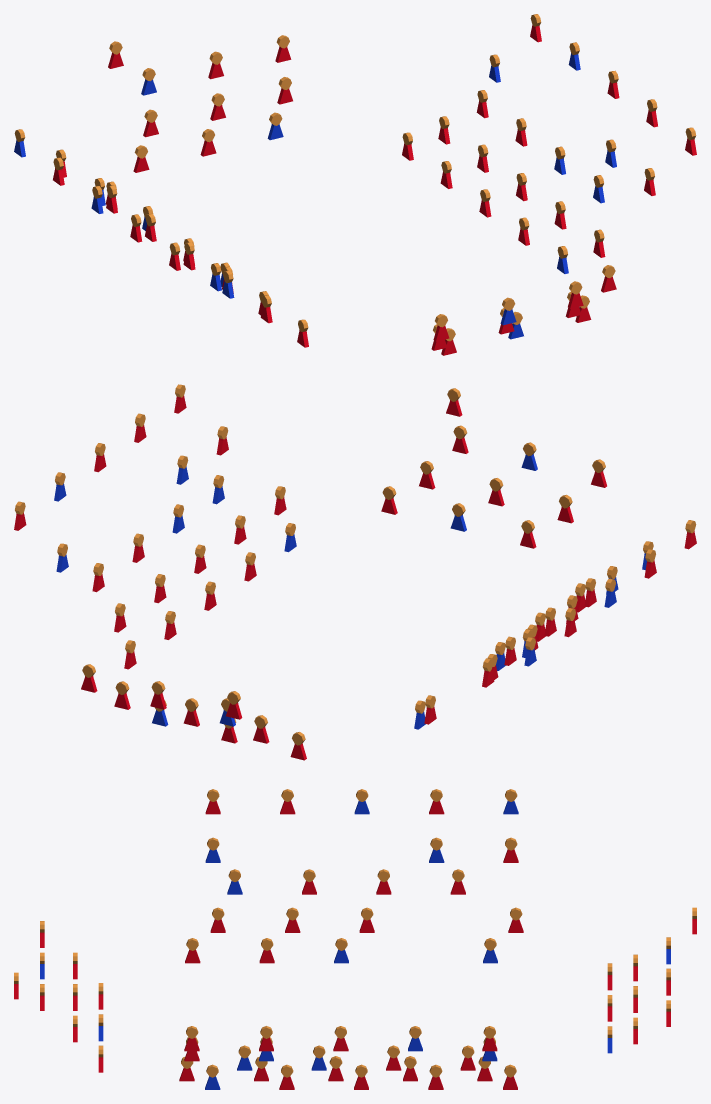
The model's file is fans.fbx.
The picture shows the model from 3 angles, top to bottom: view 1: azimuth 30°, elevation 25°; view 2: azimuth 150°, elevation 25°; view 3: azimuth 270°, elevation 25°; orthographic projection. The views are drawn at different scales.
Visible parts, largest first — view 1: Fan.001, Fan.002, Fan.004, Fan.003; view 2: Fan.001, Fan.002, Fan.003, Fan.004; view 3: Fan.001, Fan.002, Fan.004, Fan.003.
Part boxes in pixels (x1,y1,x2,y2): Fan.001: (402,14,696,273); Fan.002: (14,129,308,347); Fan.004: (108,35,292,172); Fan.003: (431,265,616,355); Fan.001: (14,384,296,669); Fan.002: (414,520,696,729); Fan.003: (381,388,606,548); Fan.004: (81,664,306,760); Fan.001: (179,1026,517,1089); Fan.002: (185,789,523,963); Fan.004: (607,907,696,1053); Fan.003: (14,921,103,1072).
Bounding box in the file's own units: 7697 × 1763 × 9305.
